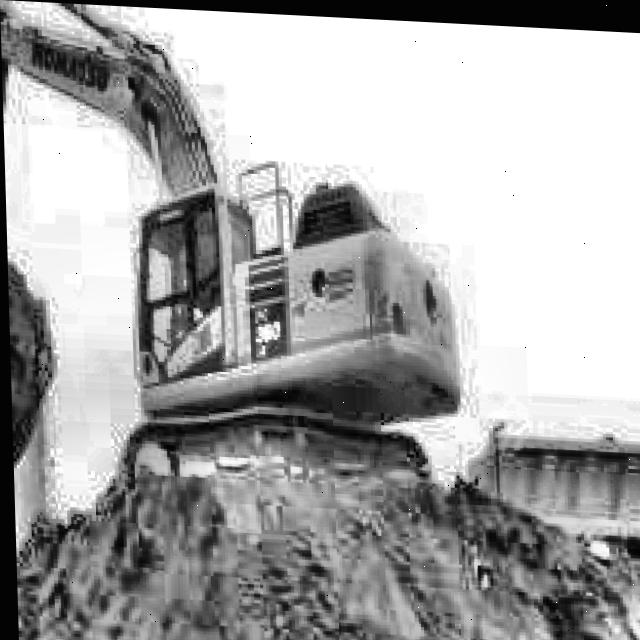dump_truck: (460, 378, 640, 632)
excavator: (0, 0, 460, 510)
